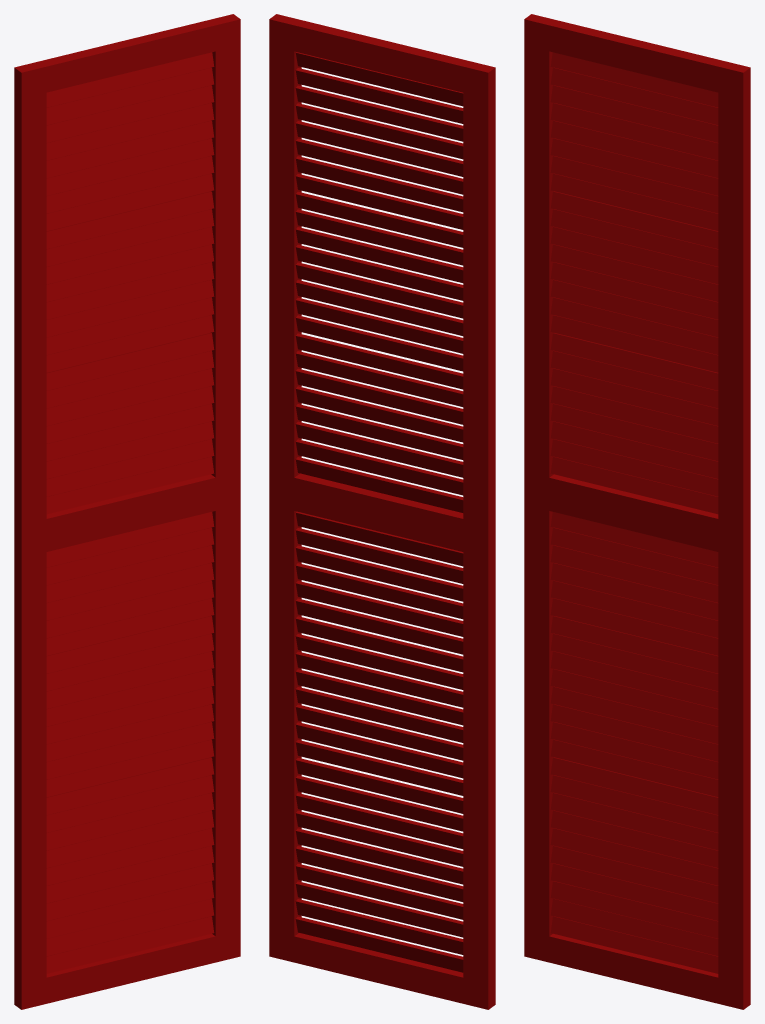
Rendered from sweethome3d-katorlegaz-window-shutter-12.glb.
3 views of the same model, side by side, from view 1: azimuth 30°, elevation 25°; view 2: azimuth 150°, elevation 25°; view 3: azimuth 330°, elevation 25° (orthographic).
Parts seen in each view (by area): view 1: shutter; view 2: shutter; view 3: shutter.
Boxes of the visible parts, box(x1,y1,x2,y2) form: shutter: box(14, 14, 240, 1009); shutter: box(269, 14, 495, 1009); shutter: box(524, 14, 750, 1009).
Bounding box in the file's own units: 3.61 × 14.74 × 0.2058.
